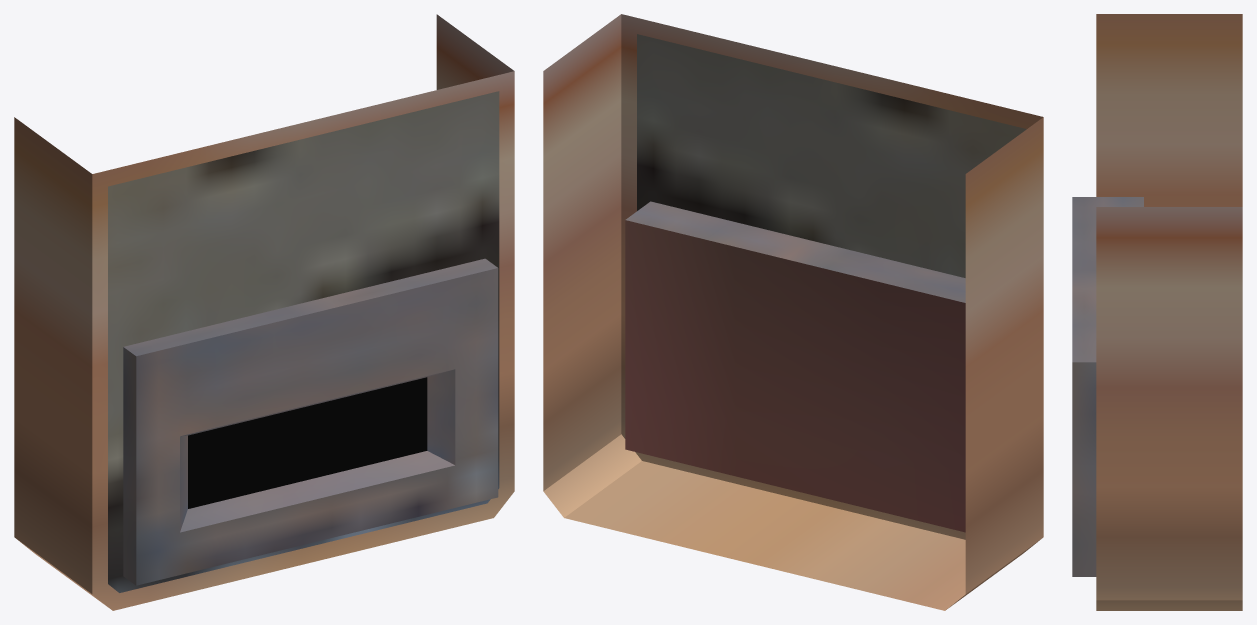
The model's file is TimePanel.fbx.
The picture shows the model from 3 angles, left to right: view 1: azimuth 30°, elevation 25°; view 2: azimuth 150°, elevation 25°; view 3: azimuth 270°, elevation 25°; orthographic projection. The views are drawn at different scales.
Visible parts, largest first — view 1: Cube.001; view 2: Cube.001; view 3: Cube.001.
Part boxes in pixels (x1,y1,x2,y2): Cube.001: [14, 14, 514, 610]; Cube.001: [543, 14, 1043, 610]; Cube.001: [1072, 14, 1242, 610].
Bounding box in the file's own units: 43.75 × 43.75 × 16.31.
